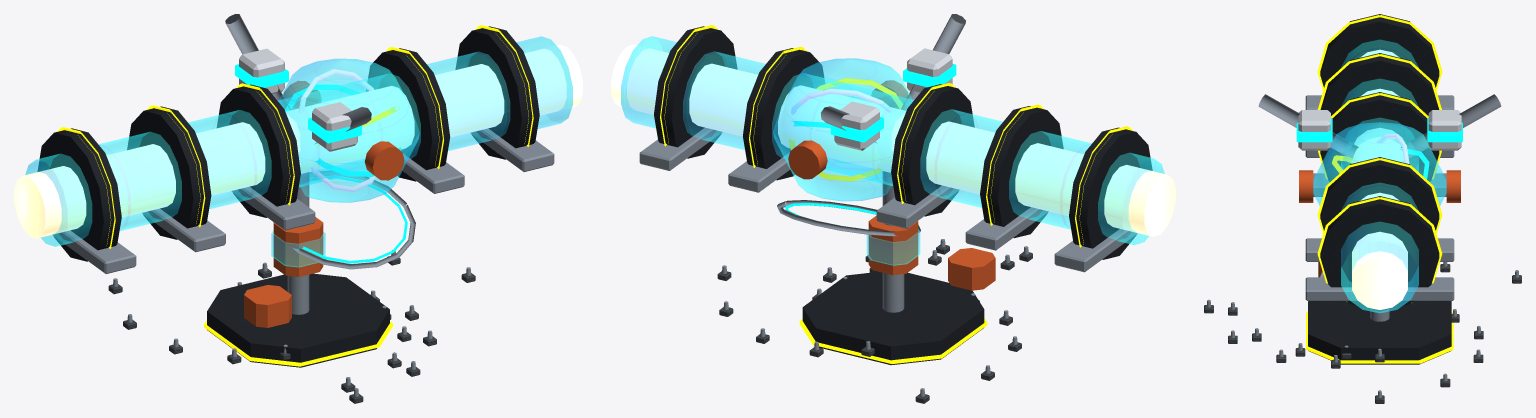
Rendered from interior_setpiece_03_axial_suncore_spoke_hub.glb.
The picture shows the model from 3 angles, left to right: view 1: azimuth 30°, elevation 25°; view 2: azimuth 150°, elevation 25°; view 3: azimuth 270°, elevation 25°; orthographic projection. The views are drawn at different scales.
Visible parts, largest first — view 1: Setpiece03_C02_glass_cyan, Setpiece03_C02_gunmetal, Setpiece03_C02_sky_golden_core, Setpiece03_C02_steel_machined, Setpiece03_C02_accent_orange, Setpiece03_C02_led_amber, Setpiece03_C02_led_cyan, Setpiece03_C02_aero_white, Setpiece03_C02_cliff_basalt, Setpiece03_C02_led_uv; view 2: Setpiece03_C02_gunmetal, Setpiece03_C02_glass_cyan, Setpiece03_C02_sky_golden_core, Setpiece03_C02_steel_machined, Setpiece03_C02_accent_orange, Setpiece03_C02_led_amber, Setpiece03_C02_aero_white, Setpiece03_C02_led_cyan, Setpiece03_C02_cliff_basalt, Setpiece03_C02_led_uv; view 3: Setpiece03_C02_gunmetal, Setpiece03_C02_glass_cyan, Setpiece03_C02_steel_machined, Setpiece03_C02_sky_golden_core, Setpiece03_C02_led_amber, Setpiece03_C02_aero_white, Setpiece03_C02_cliff_basalt, Setpiece03_C02_led_cyan, Setpiece03_C02_accent_orange.
Boxes of the visible parts, bbox=[...] form: Setpiece03_C02_glass_cyan: bbox=[25, 36, 572, 267]; Setpiece03_C02_gunmetal: bbox=[37, 26, 539, 367]; Setpiece03_C02_sky_golden_core: bbox=[14, 44, 582, 238]; Setpiece03_C02_steel_machined: bbox=[53, 14, 554, 396]; Setpiece03_C02_accent_orange: bbox=[244, 81, 404, 327]; Setpiece03_C02_led_amber: bbox=[57, 25, 533, 366]; Setpiece03_C02_led_cyan: bbox=[235, 64, 407, 263]; Setpiece03_C02_aero_white: bbox=[239, 48, 357, 151]; Setpiece03_C02_cliff_basalt: bbox=[108, 256, 475, 403]; Setpiece03_C02_led_uv: bbox=[298, 69, 375, 192]; Setpiece03_C02_gunmetal: bbox=[654, 26, 1152, 365]; Setpiece03_C02_glass_cyan: bbox=[621, 36, 1164, 265]; Setpiece03_C02_sky_golden_core: bbox=[611, 44, 1175, 236]; Setpiece03_C02_steel_machined: bbox=[639, 14, 1137, 396]; Setpiece03_C02_accent_orange: bbox=[788, 80, 995, 290]; Setpiece03_C02_led_amber: bbox=[660, 25, 1132, 363]; Setpiece03_C02_aero_white: bbox=[834, 48, 952, 150]; Setpiece03_C02_led_cyan: bbox=[785, 64, 956, 215]; Setpiece03_C02_cliff_basalt: bbox=[717, 245, 1032, 403]; Setpiece03_C02_led_uv: bbox=[791, 88, 894, 170]; Setpiece03_C02_gunmetal: bbox=[1308, 14, 1451, 364]; Setpiece03_C02_glass_cyan: bbox=[1313, 39, 1446, 313]; Setpiece03_C02_steel_machined: bbox=[1206, 94, 1519, 397]; Setpiece03_C02_sky_golden_core: bbox=[1352, 50, 1407, 309]; Setpiece03_C02_led_amber: bbox=[1306, 15, 1453, 363]; Setpiece03_C02_aero_white: bbox=[1298, 110, 1461, 150]; Setpiece03_C02_cliff_basalt: bbox=[1204, 264, 1521, 403]; Setpiece03_C02_led_cyan: bbox=[1296, 118, 1462, 179]; Setpiece03_C02_accent_orange: bbox=[1299, 170, 1460, 277].
Size of the model in its own units: 54 by 25.79 by 30.99.
10 materials, 10 textured.
